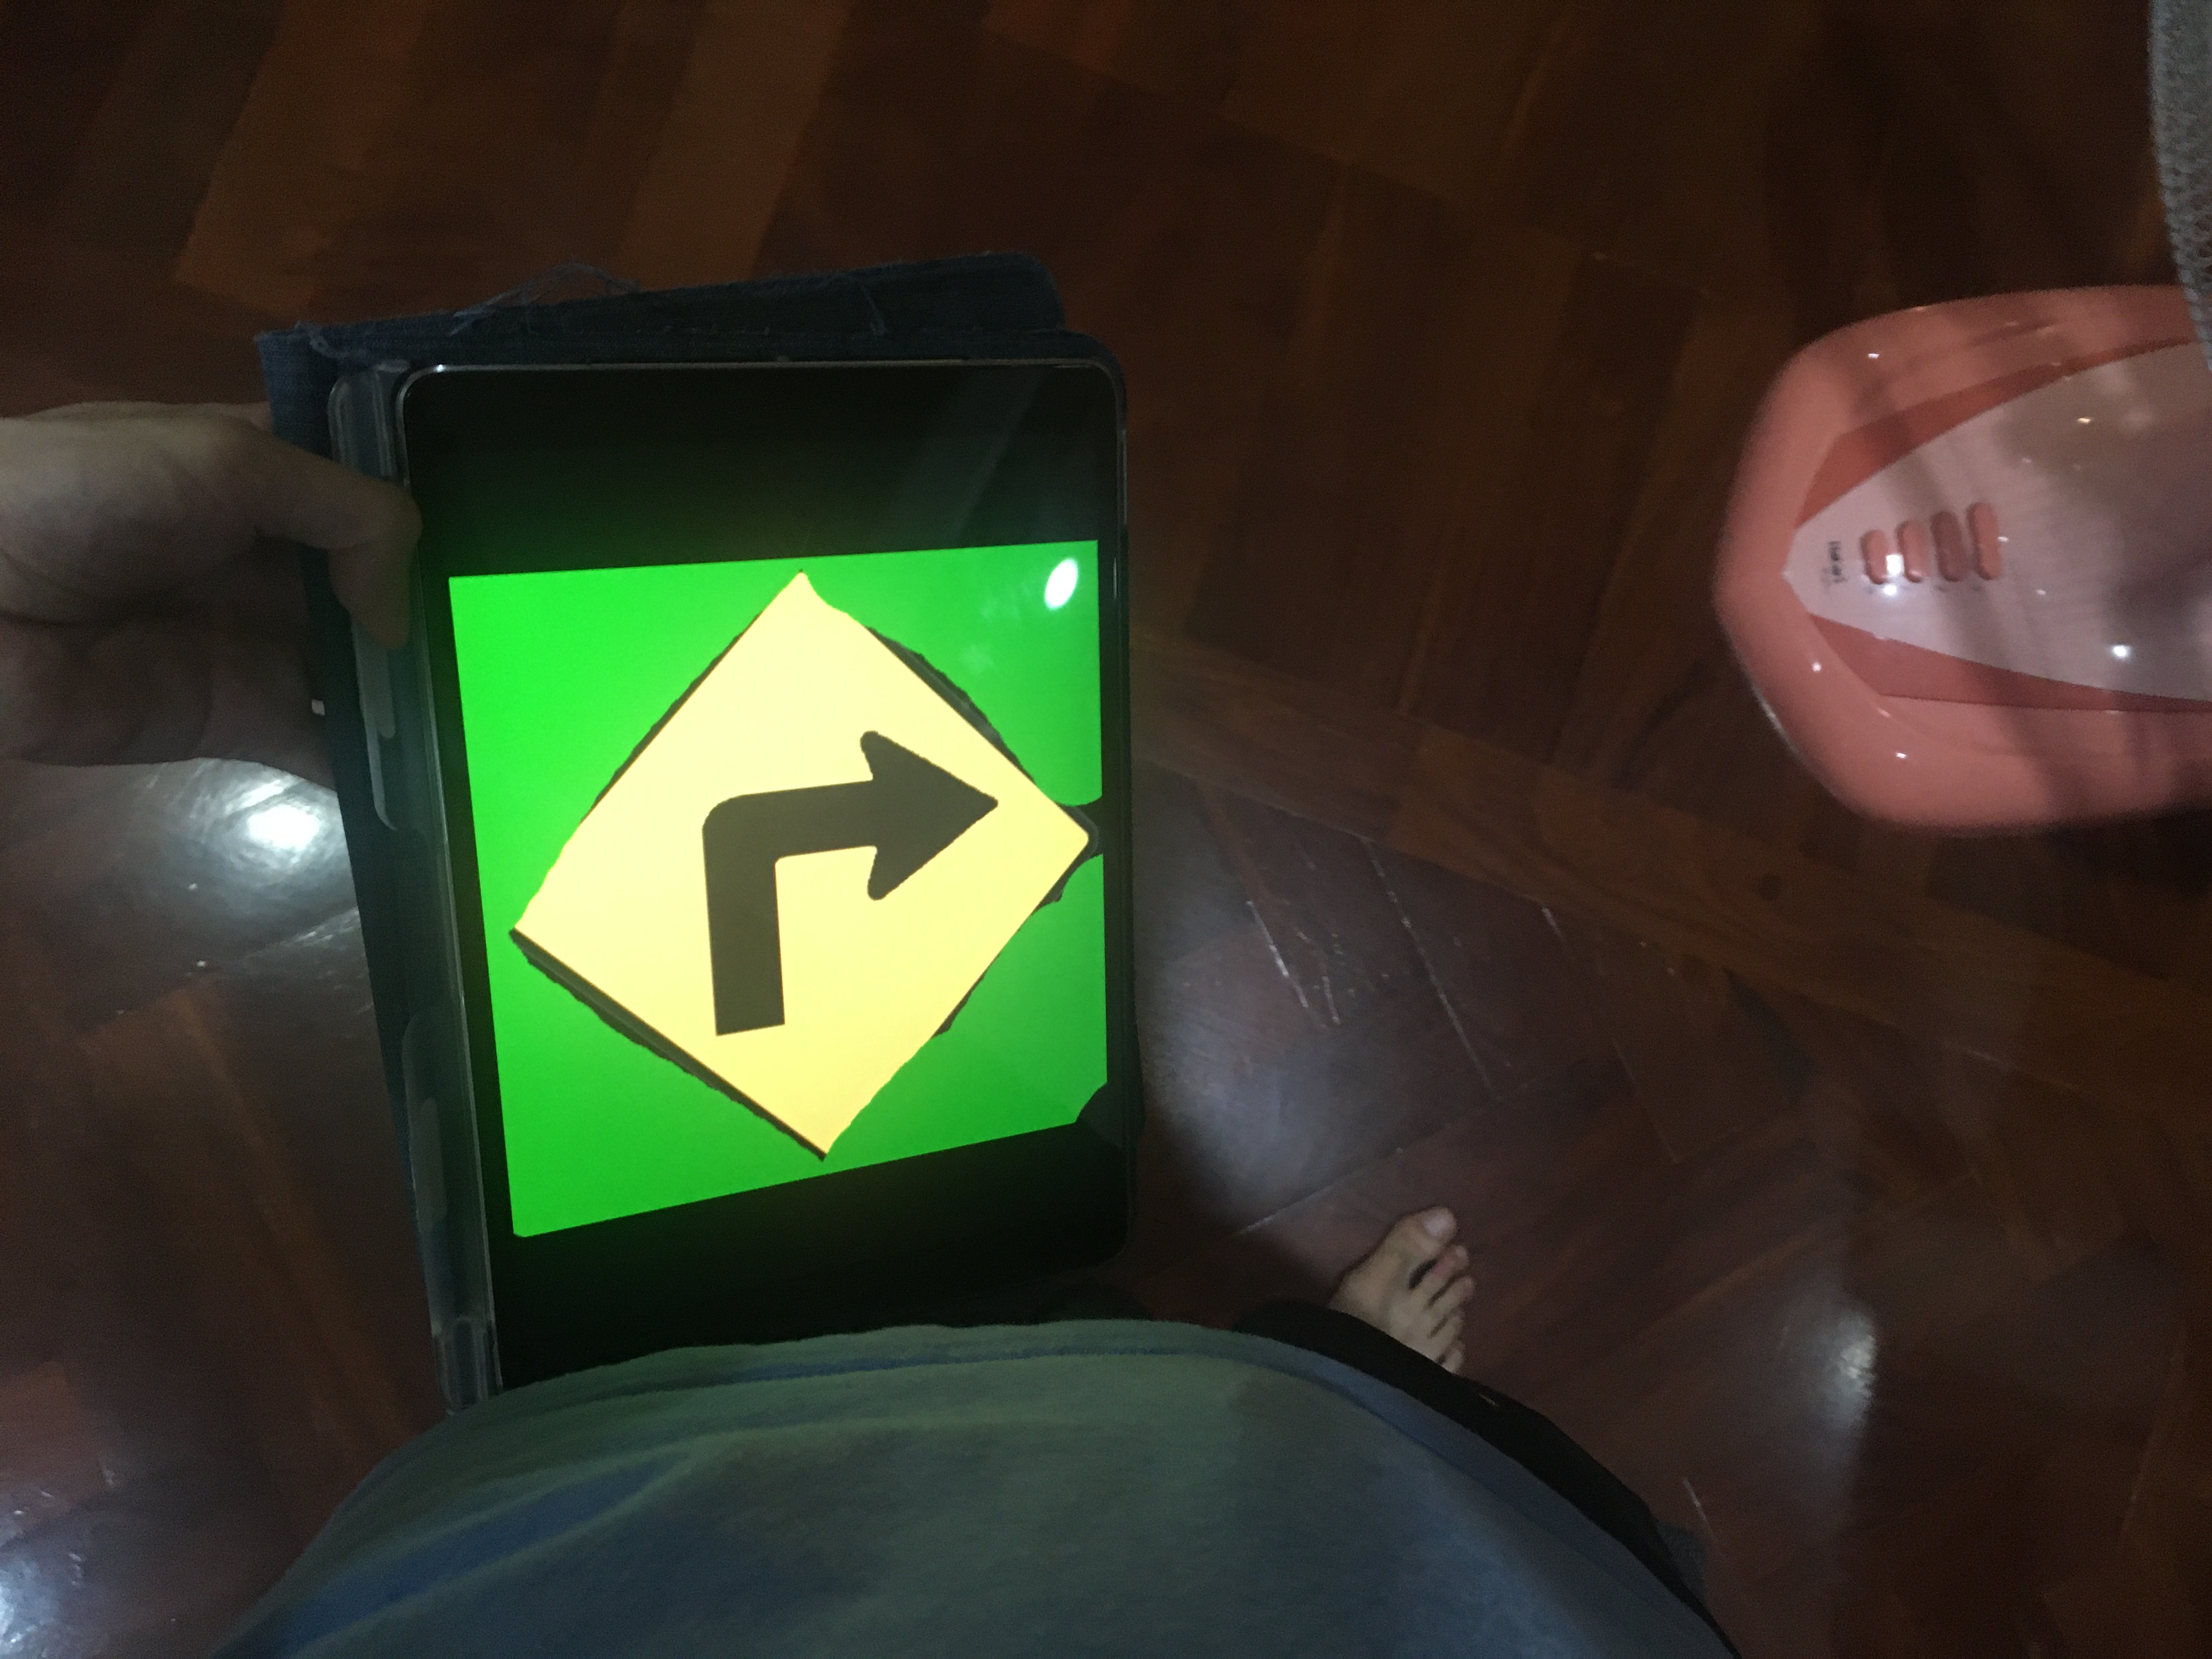right: (503, 571, 1099, 1171)
